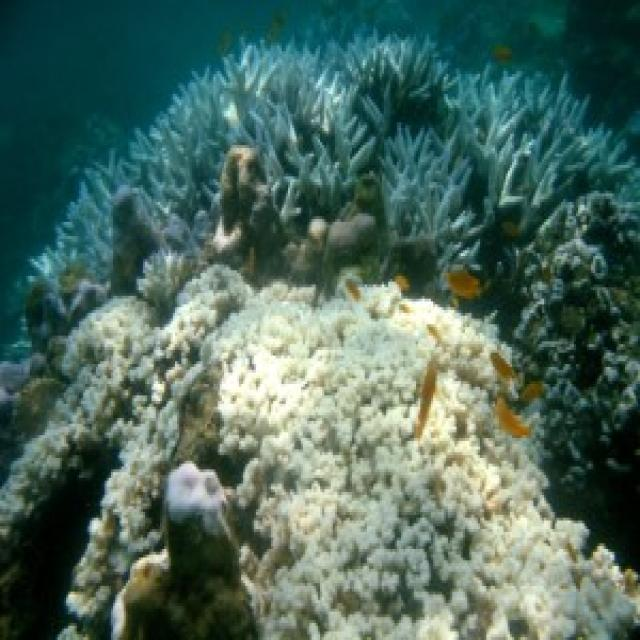Bleached: (1, 1, 640, 640), (31, 38, 637, 291), (223, 285, 637, 638), (67, 362, 216, 638), (513, 248, 640, 556), (1, 362, 120, 559), (163, 266, 253, 359), (61, 297, 155, 376), (138, 248, 202, 308)
